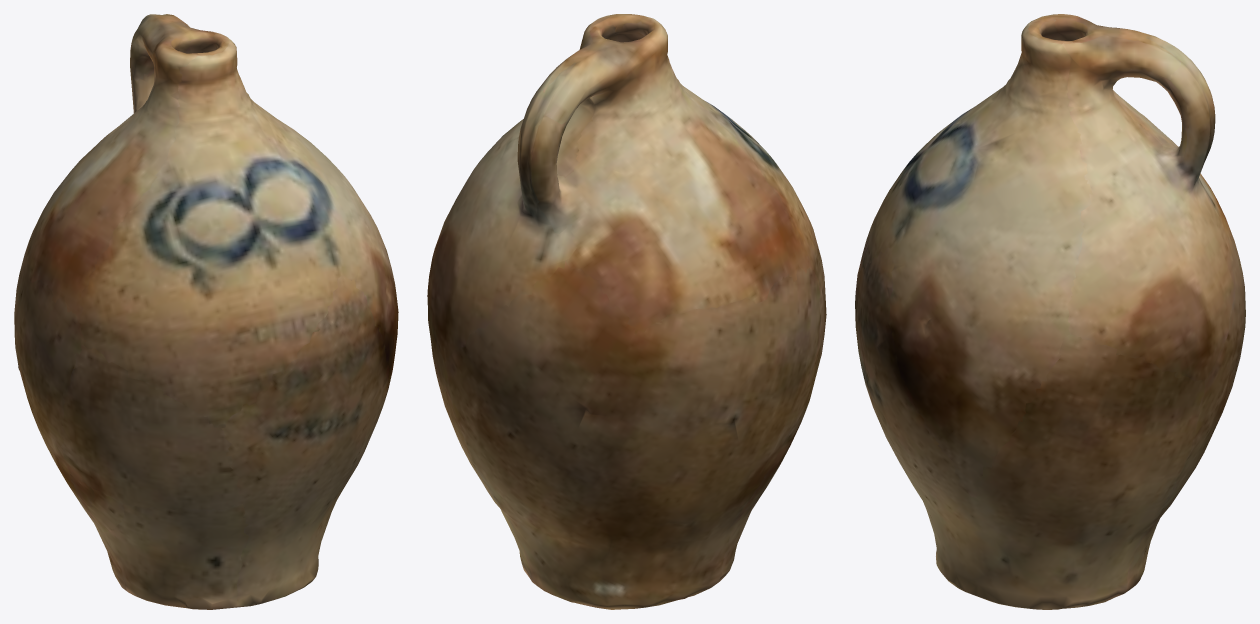
Rendered from si-stoneware-jug-commeraw.lod1.glb.
3 views of the same model, side by side, from view 1: azimuth 30°, elevation 25°; view 2: azimuth 150°, elevation 25°; view 3: azimuth 270°, elevation 25° (orthographic). The views are drawn at different scales.
Visible parts, largest first — view 1: orient_fix; view 2: orient_fix; view 3: orient_fix.
Part boxes in pixels (x1,y1,x2,y2): orient_fix: (14,14,398,609); orient_fix: (427,14,826,609); orient_fix: (855,14,1245,609).
Bounding box in the file's own units: 0.2574 × 0.39 × 0.2567.
1 material, 1 textured.
